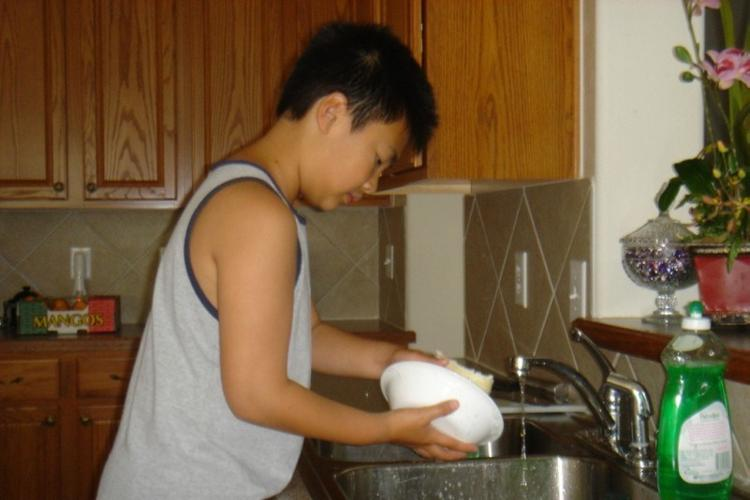person: (95, 22, 478, 500)
